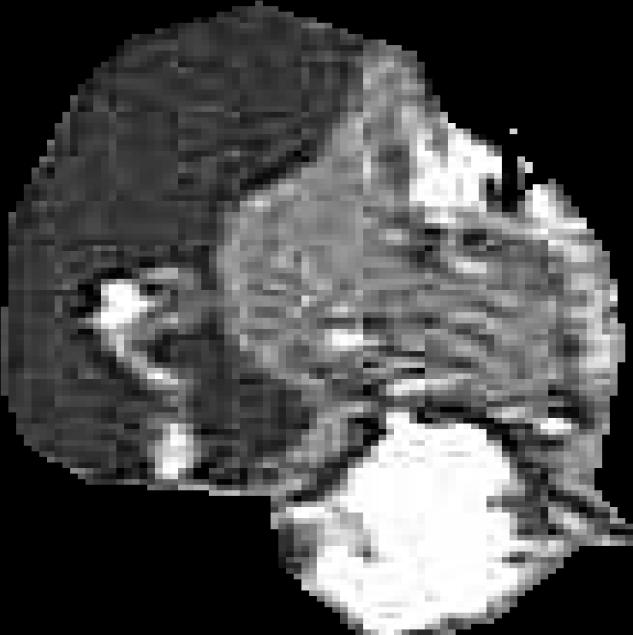tumor_moderate_chance: (1, 1, 633, 635)
